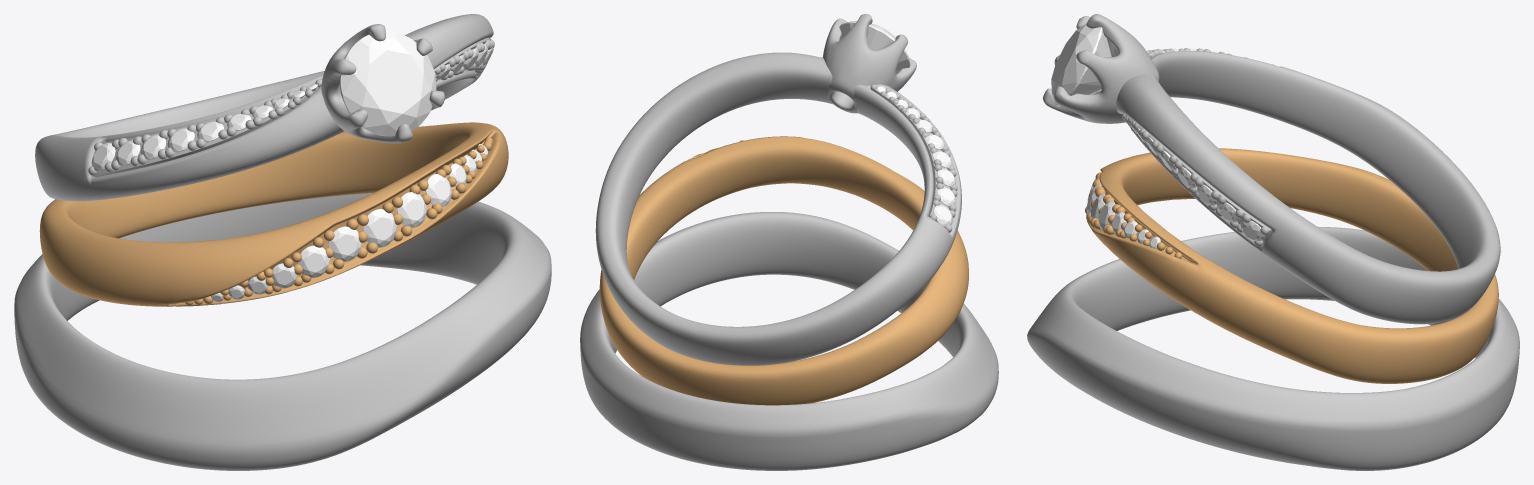
The model's file is ring2.glb.
3 views of the same model, side by side, from view 1: azimuth 30°, elevation 25°; view 2: azimuth 150°, elevation 25°; view 3: azimuth 270°, elevation 25° (orthographic). The views are drawn at different scales.
Visible parts, largest first — view 1: object_1_Retopo, weddingring-lady, soli_metal, gemcenter, Brillant_1, Brillant_002, Brillant_003, Brillant_006, Brillant_004; view 2: object_1_Retopo, soli_metal, weddingring-lady, gemcenter; view 3: object_1_Retopo, soli_metal, weddingring-lady, gemcenter.
Boxes of the visible parts, <box> form: object_1_Retopo: <box>14,193,551,470</box>; weddingring-lady: <box>39,122,508,306</box>; soli_metal: <box>35,14,493,201</box>; gemcenter: <box>340,31,436,136</box>; Brillant_1: <box>363,209,397,247</box>; Brillant_002: <box>328,226,361,261</box>; Brillant_003: <box>397,192,426,227</box>; Brillant_006: <box>298,245,329,277</box>; Brillant_004: <box>425,174,451,207</box>; object_1_Retopo: <box>580,212,998,470</box>; soli_metal: <box>595,14,961,365</box>; weddingring-lady: <box>599,136,968,405</box>; gemcenter: <box>839,21,910,73</box>; object_1_Retopo: <box>1027,226,1519,470</box>; soli_metal: <box>1043,14,1500,324</box>; weddingring-lady: <box>1086,148,1498,383</box>; gemcenter: <box>1051,23,1111,106</box>.
Size of the model in its own units: 2.43 by 2.06 by 2.43.
